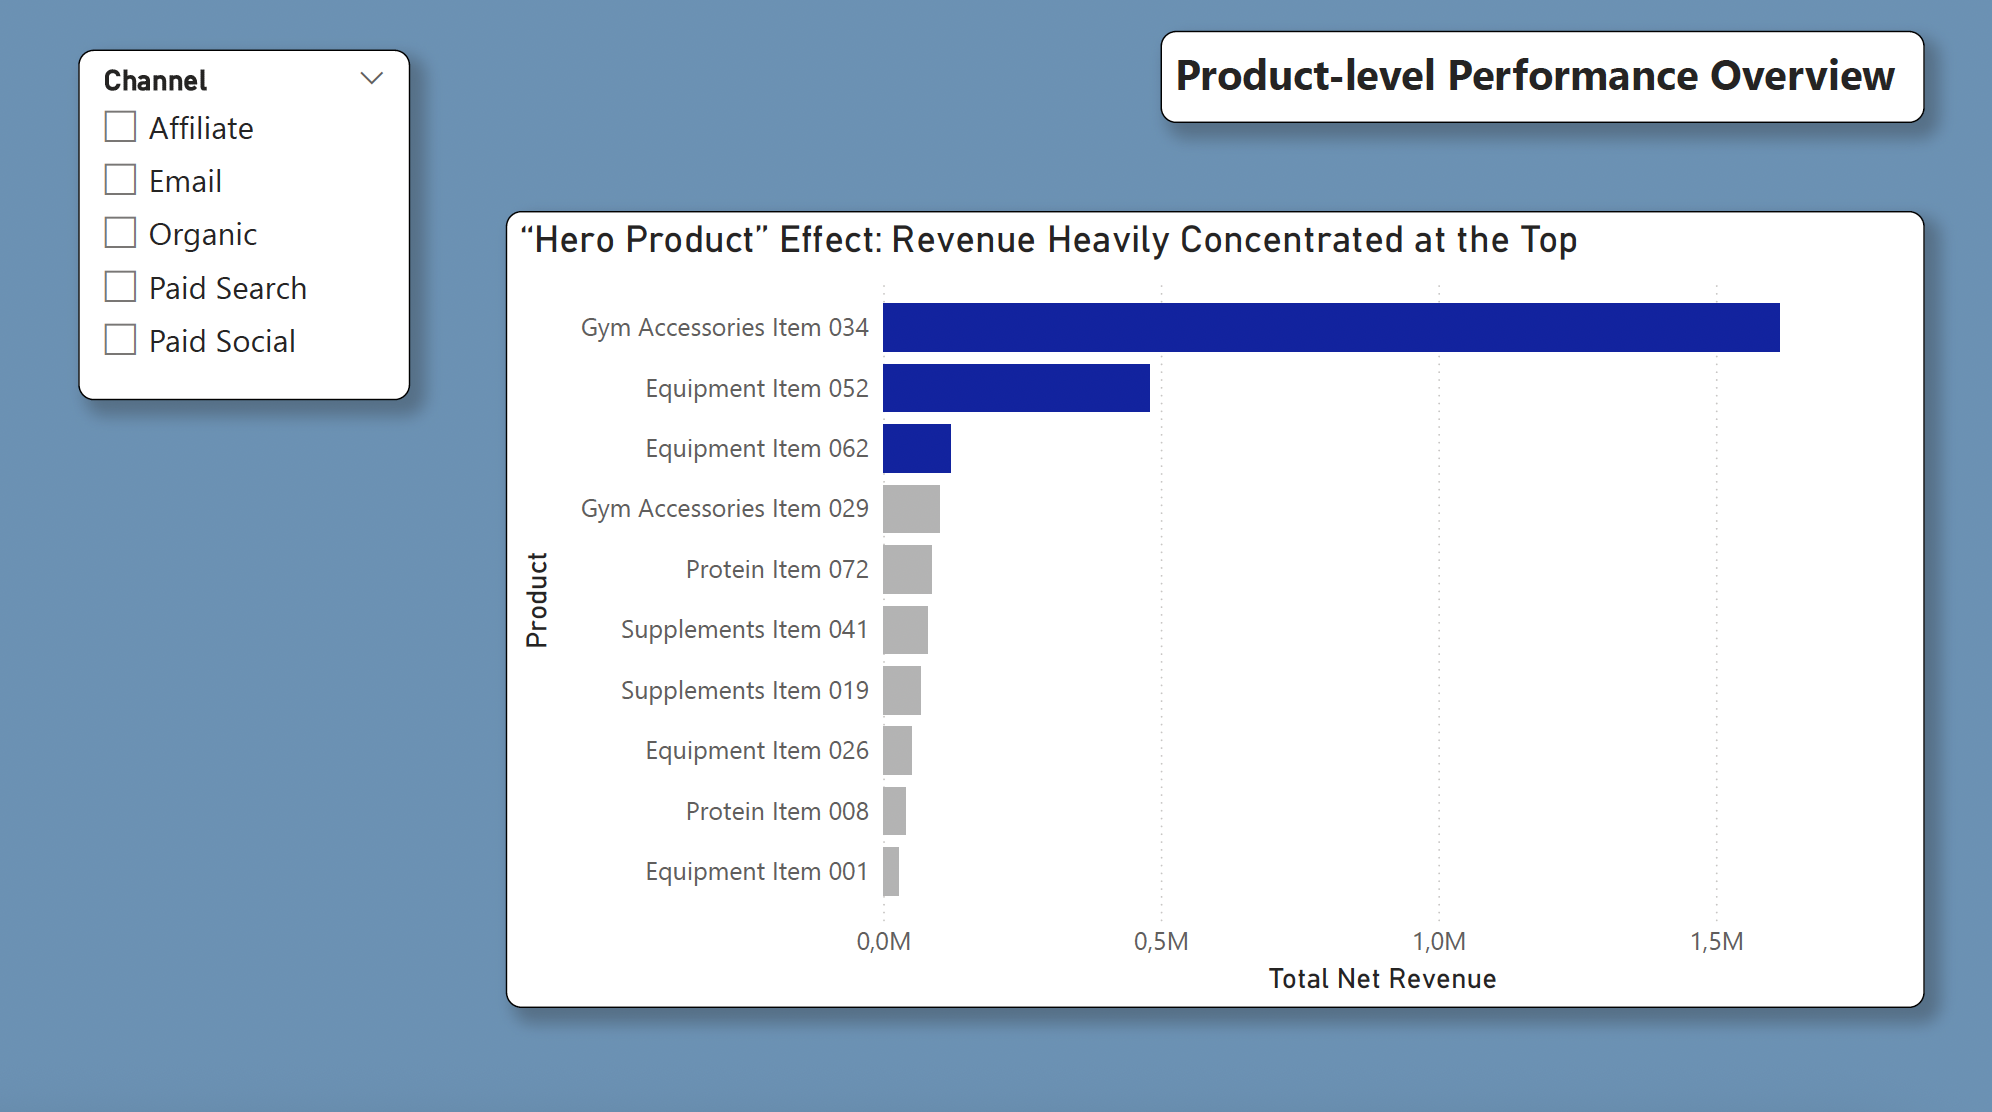

The dashboard page shown, as its layout file describes it:
{"tool":"powerbi","page":{"name":"Product Performance","canvas":[1280,720],"ordinal":3},"visuals":[{"type":"clusteredBarChart","title":"“Hero Product” Effect: Revenue Heavily Concentrated at the Top","fields":{"Category":["dim_product.product_name"],"Y":["_MEASURES.Net Revenue(Orders)"]},"box":[327.3,139.6,906.2,509.1],"z":0},{"type":"slicer","fields":{"Values":["fact_orders.channel"]},"box":[54.4,37,211.2,224.2],"z":1000},{"type":"textbox","box":[744.7,24.7,488.7,59.6],"z":2000}]}

Visuals, with their boxes in screenshot pixels (x1, y1, x2, y2), scaled from the page's 1280x720 canvas onto the 1992x1112 screenshot:
"“Hero Product” Effect: Revenue Heavily Concentrated at the Top" clusteredBarChart: 509/216/1920/1002
slicer - fact_orders.channel: 85/57/413/403
textbox: 1159/38/1919/130
